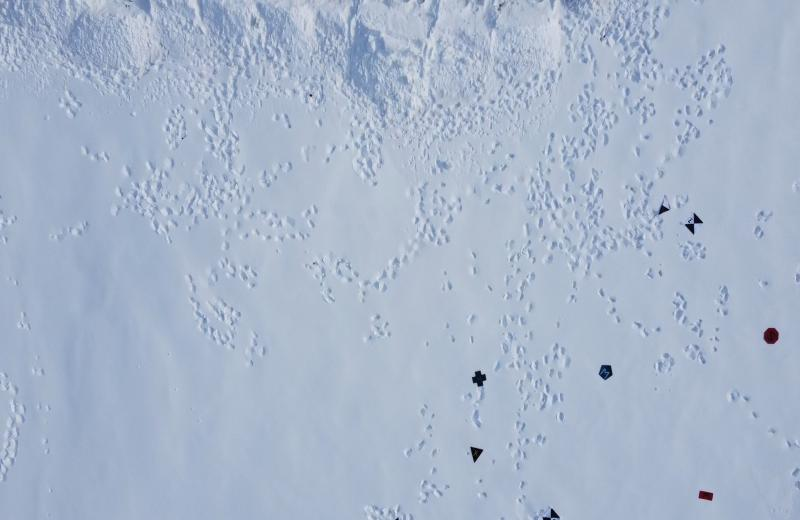Cross: (470, 369, 489, 388)
Octagon: (761, 325, 779, 347)
Pentagon: (598, 362, 614, 380)
Rectangle: (697, 488, 715, 502)
Triangle: (469, 444, 485, 464)
